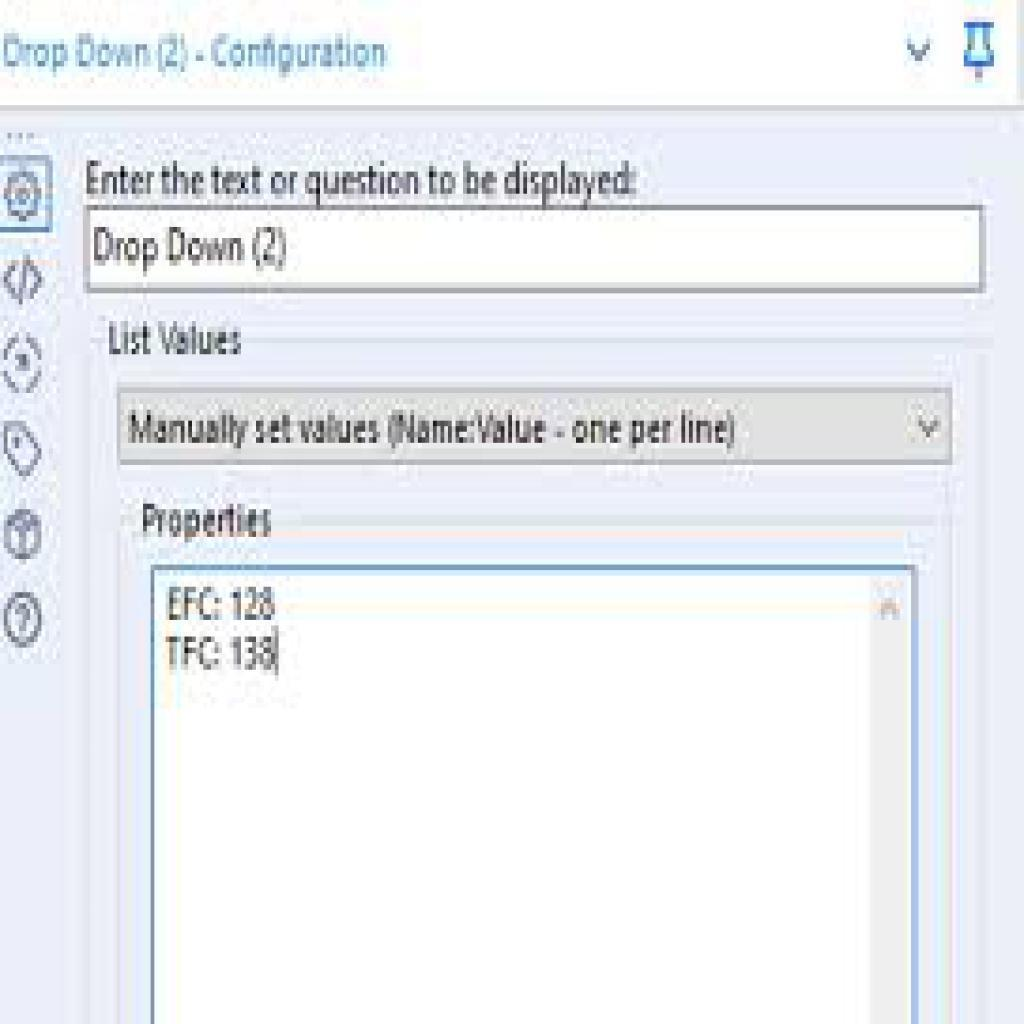dropdown: (118, 387, 953, 465)
icon: (2, 417, 48, 482), (961, 18, 1003, 87), (1, 165, 47, 227), (1, 591, 48, 651), (1, 506, 45, 569), (2, 334, 45, 397), (2, 251, 48, 308), (902, 30, 941, 70)
input: (85, 205, 987, 295)
